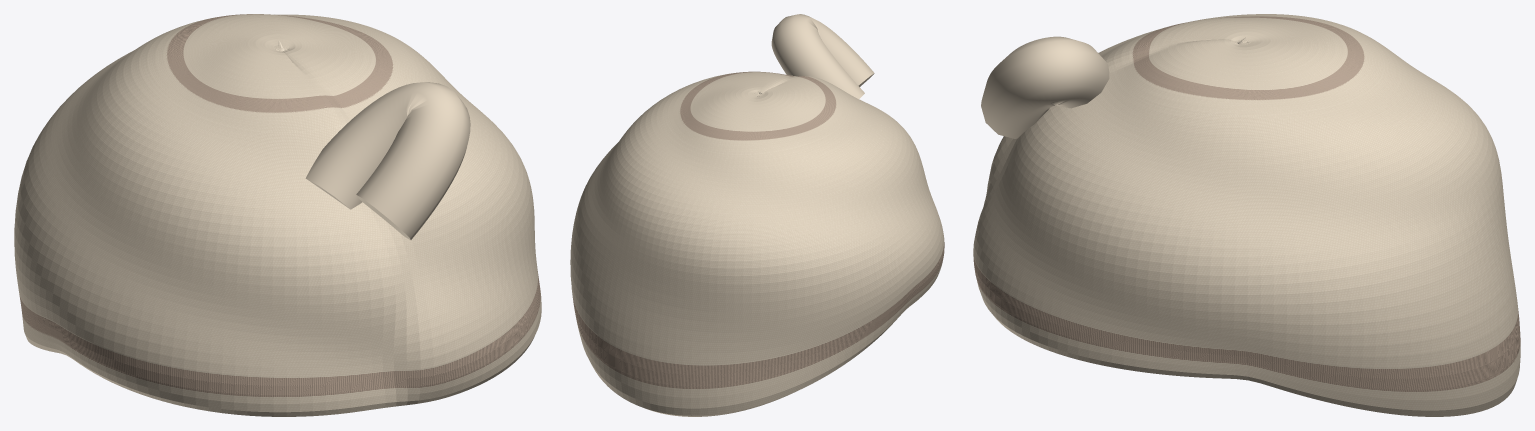
File: turban.glb
The picture shows the model from 3 angles, left to right: view 1: azimuth 30°, elevation 25°; view 2: azimuth 150°, elevation 25°; view 3: azimuth 270°, elevation 25°; orthographic projection. The views are drawn at different scales.
Visible parts, largest first — view 1: turban; view 2: turban; view 3: turban.
Part boxes in pixels (<box>): turban: <box>14,14,541,416</box>; turban: <box>570,14,944,416</box>; turban: <box>973,14,1520,416</box>.
Bounding box in the file's own units: 1.22 × 0.9869 × 1.36.
Materials: 1 (1 with a texture image).
